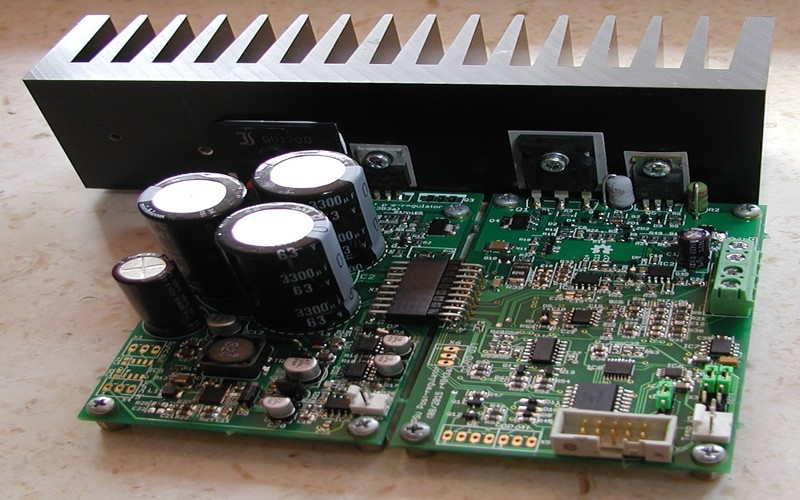Regulator: (13, 6, 774, 489)
